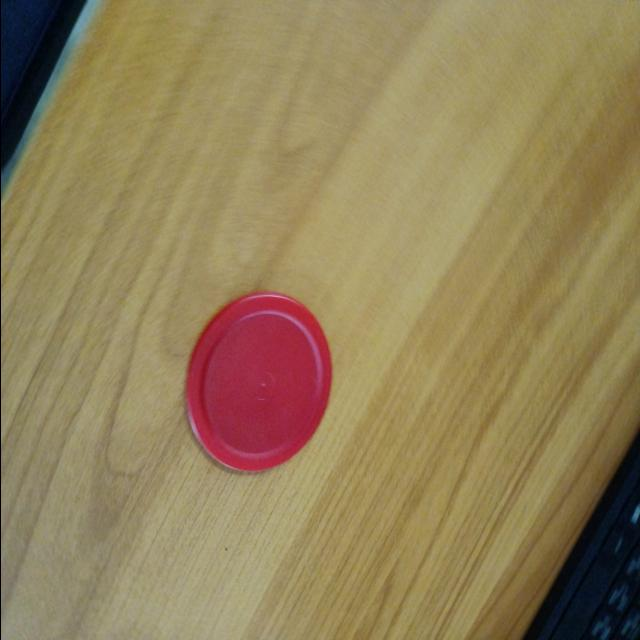chip: (184, 284, 338, 476)
